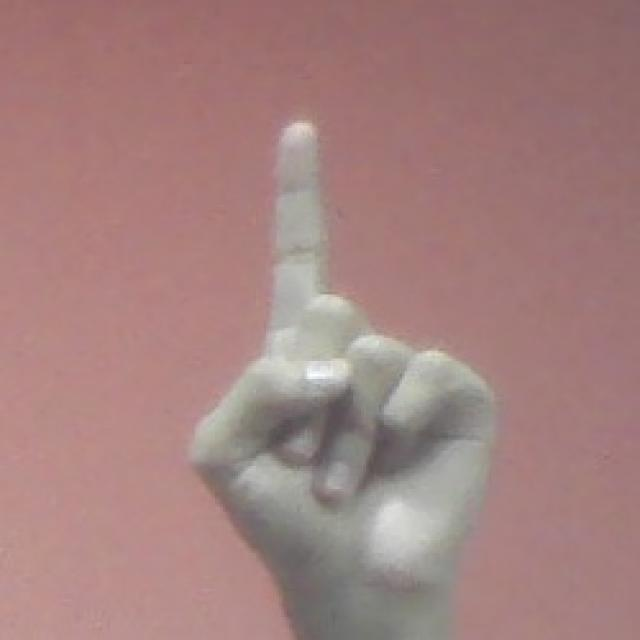Numeric-1: (186, 115, 489, 621)
